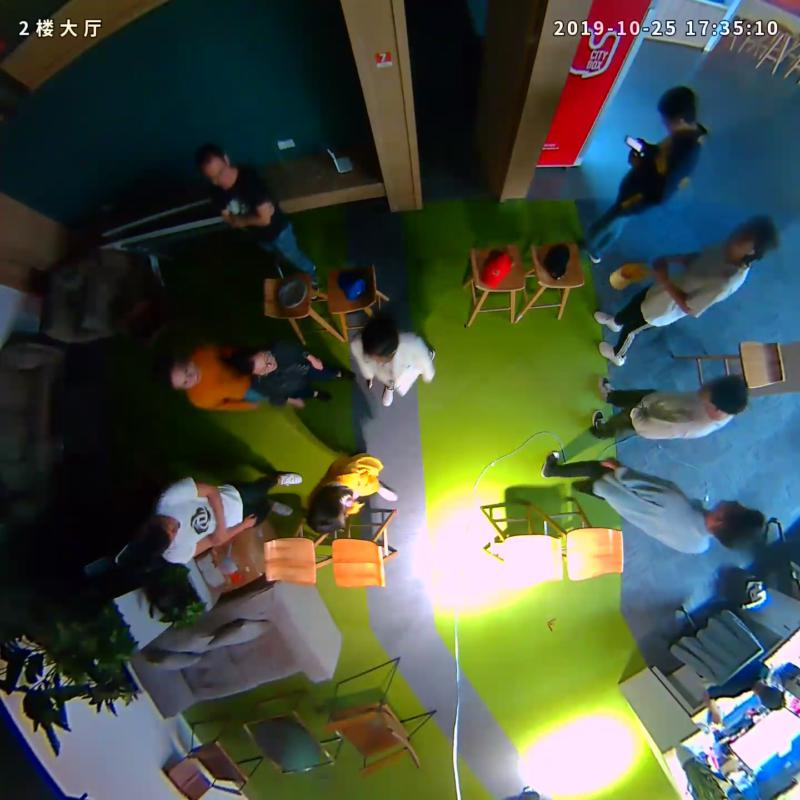head: (713, 498, 766, 552), (695, 374, 750, 416), (129, 515, 180, 560), (657, 85, 699, 138), (729, 214, 780, 257), (307, 488, 349, 535), (361, 315, 400, 363), (157, 352, 202, 391), (195, 144, 232, 187), (238, 347, 278, 378)
